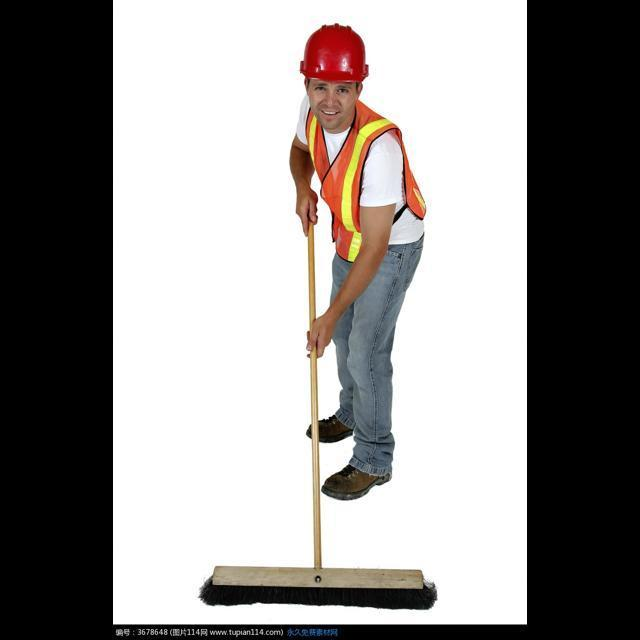helmet: (297, 11, 373, 100)
safety_vest: (298, 92, 442, 264)
